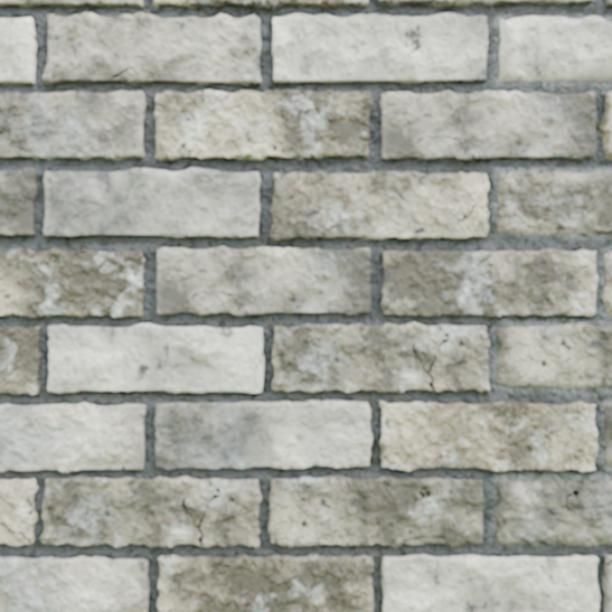brick: (43, 13, 261, 85), (42, 477, 261, 547), (269, 476, 483, 547), (381, 402, 597, 472), (381, 91, 596, 161), (44, 168, 259, 238), (270, 172, 488, 241), (272, 323, 490, 392), (156, 91, 372, 160), (273, 14, 487, 83), (157, 247, 370, 316), (156, 401, 371, 469), (382, 250, 598, 317), (49, 325, 264, 392), (158, 554, 373, 611), (383, 555, 599, 611), (0, 403, 145, 472), (0, 92, 145, 160), (0, 250, 144, 317), (0, 558, 148, 611), (496, 322, 611, 389), (496, 170, 611, 237), (498, 15, 611, 82), (0, 327, 41, 393), (0, 169, 36, 234), (0, 18, 35, 83), (0, 479, 36, 542), (155, 0, 368, 8), (380, 0, 592, 6), (0, 0, 143, 6), (0, 525, 28, 544), (603, 252, 611, 316), (604, 92, 611, 160), (604, 405, 611, 467), (605, 565, 611, 611), (607, 0, 611, 7), (607, 555, 611, 561)
broken_brick: (495, 478, 611, 546)
crack: (180, 487, 221, 548), (410, 333, 449, 392), (450, 192, 488, 232), (541, 274, 572, 315), (0, 521, 32, 544), (393, 535, 446, 548), (601, 553, 611, 610), (596, 99, 607, 145), (10, 497, 34, 516), (604, 0, 609, 8), (0, 106, 6, 112), (155, 421, 160, 427), (0, 130, 4, 135), (564, 481, 568, 484)
